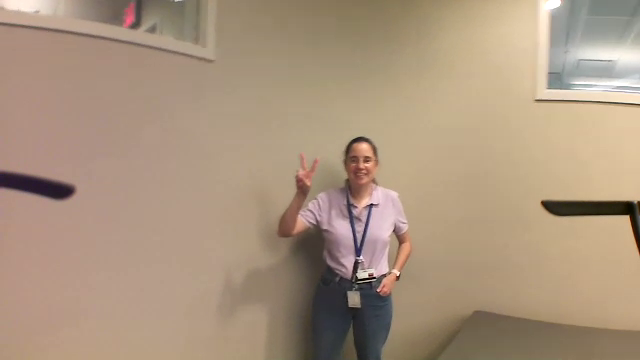peace: (287, 149, 333, 207)
